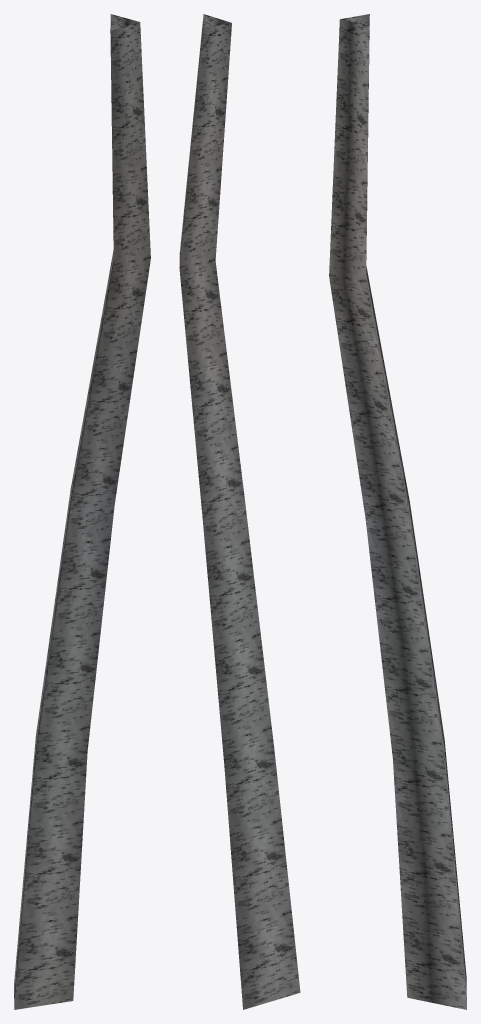
The model's file is jungle_giant_bark_l2.gltf.
3 renders of one model, left to right at view 1: azimuth 90°, elevation 25°; view 2: azimuth 210°, elevation 25°; view 3: azimuth 270°, elevation 25°, orthographic. The views are drawn at different scales.
Parts seen in each view (by area): view 1: jungle_giant_bark_l2; view 2: jungle_giant_bark_l2; view 3: jungle_giant_bark_l2.
Part boxes in pixels (box(x1,y1,x2,y2)): jungle_giant_bark_l2: box(14, 14, 150, 1009); jungle_giant_bark_l2: box(179, 14, 300, 1009); jungle_giant_bark_l2: box(329, 14, 466, 1009).
Size of the model in its own units: 1.05 by 13.08 by 1.66.
1 material, 1 textured.
